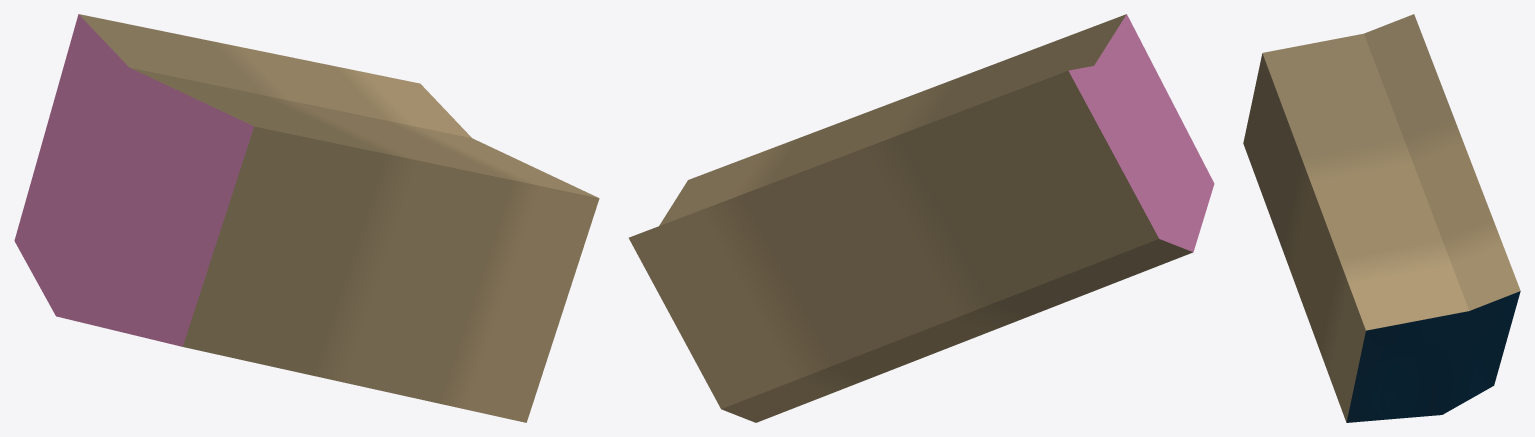
The model's file is 05ef_Barbados.glb.
3 renders of one model, left to right at view 1: azimuth 30°, elevation 25°; view 2: azimuth 150°, elevation 25°; view 3: azimuth 270°, elevation 25°, orthographic. The views are drawn at different scales.
Visible parts, largest first — view 1: part_0; view 2: part_0; view 3: part_0.
Boxes of the visible parts, box(x1,y1,x2,y2) form: part_0: box(14, 14, 599, 422); part_0: box(628, 14, 1214, 422); part_0: box(1243, 14, 1520, 422).
Bounding box in the file's own units: 0.2243 × 0.1805 × 0.1527.
1 material, 1 textured.
